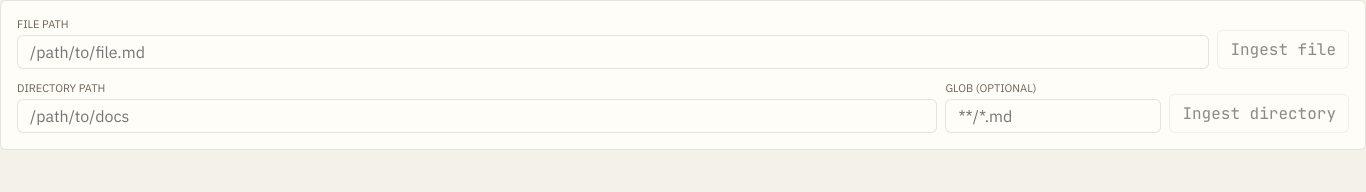
Test: KbIngest › surfaces an error when ingest fails
Type "/nope" into the field labelled "File path" at coordinates (613, 52), box [17,35,1209,69]
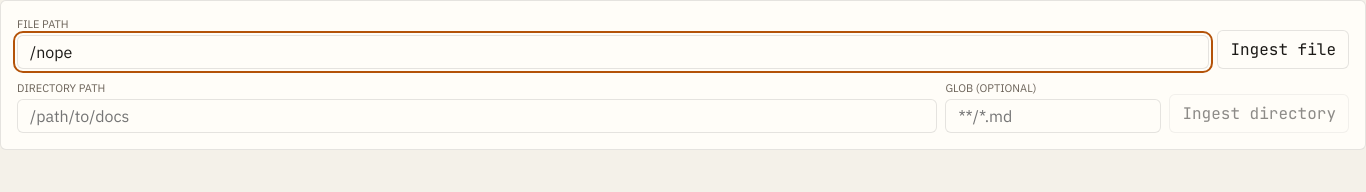
Click the button "Ingest file" at coordinates (1283, 50), box [1217,30,1349,69]
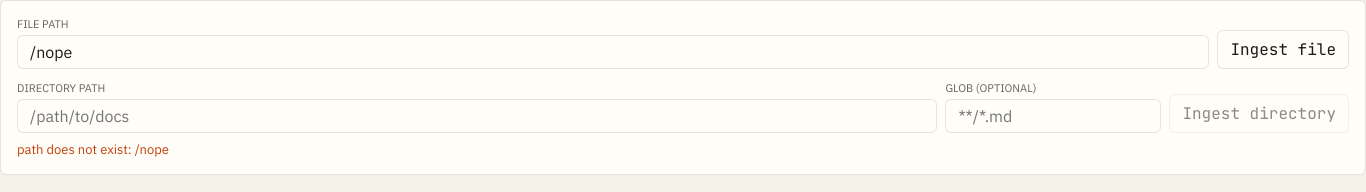
Expected: the text "path does not exist: /nope" is shown, [17,141,169,158]
